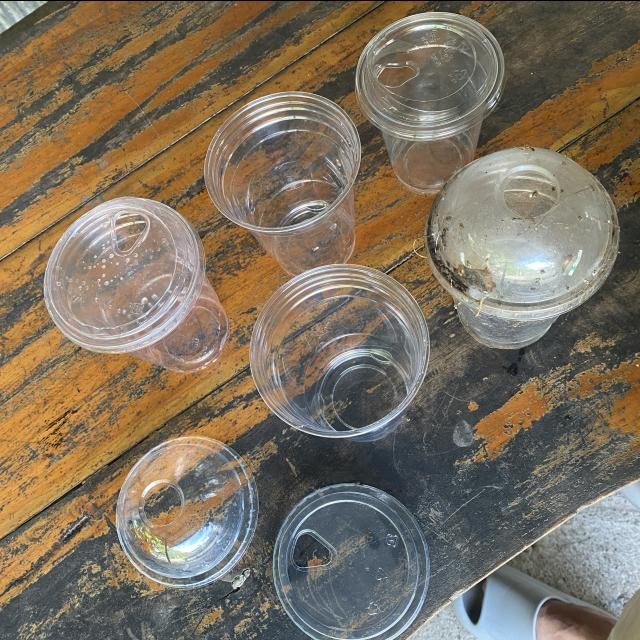plastik: (425, 147, 619, 348), (44, 196, 228, 372), (249, 262, 430, 440), (205, 91, 361, 274), (356, 11, 505, 193), (274, 482, 430, 640), (116, 435, 258, 587)
